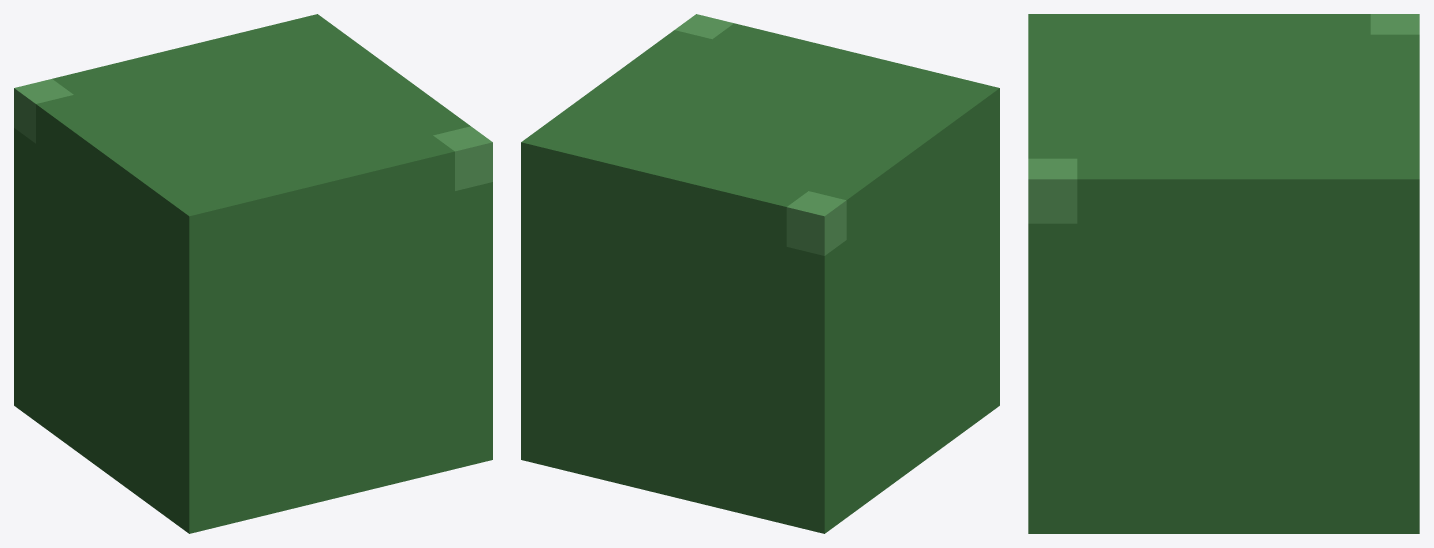
The model's file is Grass2.obj.
The picture shows the model from 3 angles, left to right: view 1: azimuth 30°, elevation 25°; view 2: azimuth 150°, elevation 25°; view 3: azimuth 270°, elevation 25°; orthographic projection. The views are drawn at different scales.
Size of the model in its own units: 0.8 by 0.8 by 0.8.
Materials: 1 (1 with a texture image).
